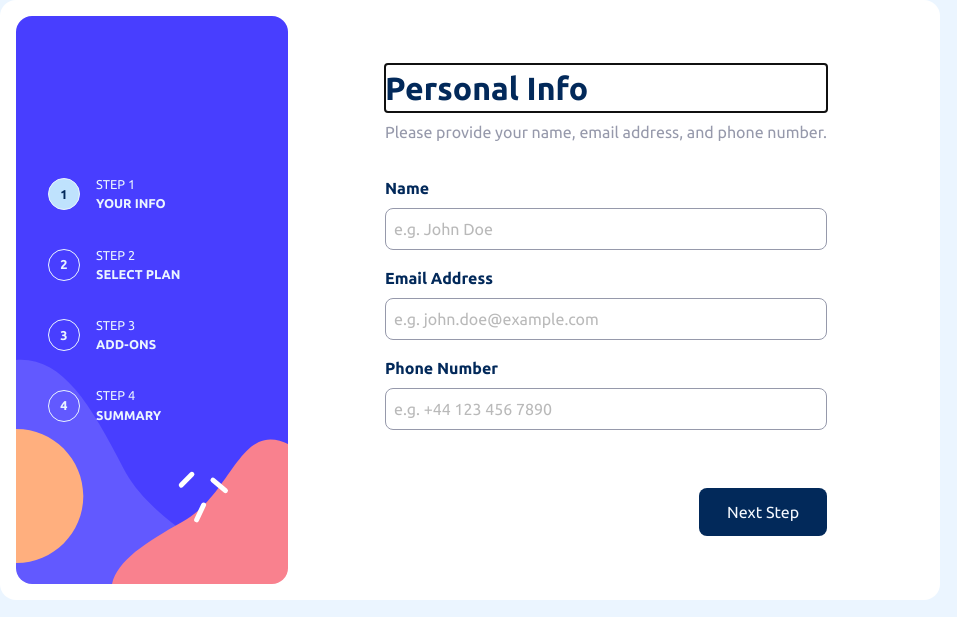
MultiStepForm › Flow 1: validation on step 1 › shows required errors for all fields when advancing with empty inputs
Click the button "Next Step" at (763, 512), box [699,488,827,536]
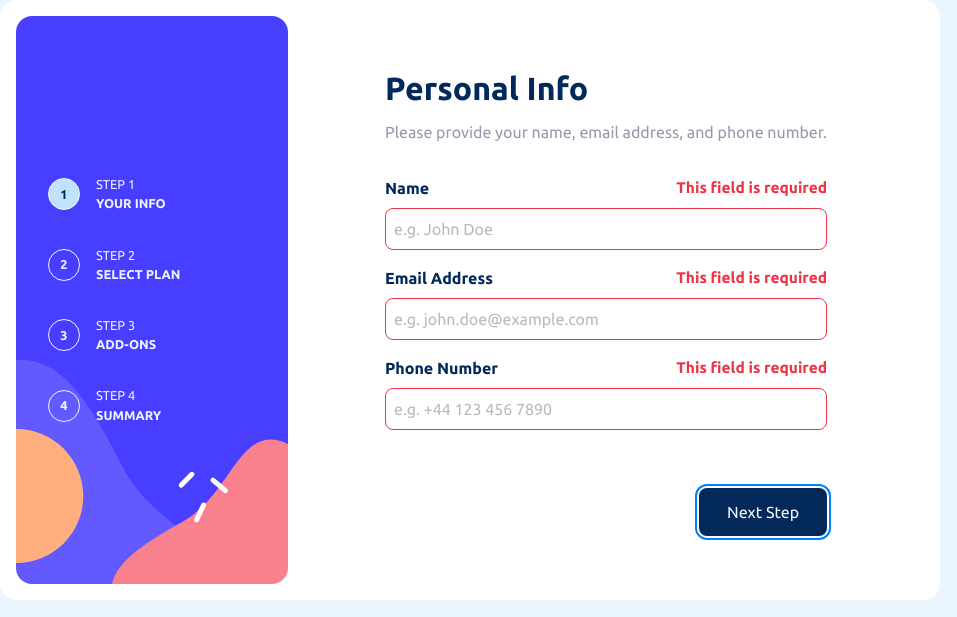
Result: the text "This field is required" is shown 3 times at [676,176,827,200]; [676,266,827,290]; [676,356,827,380]
